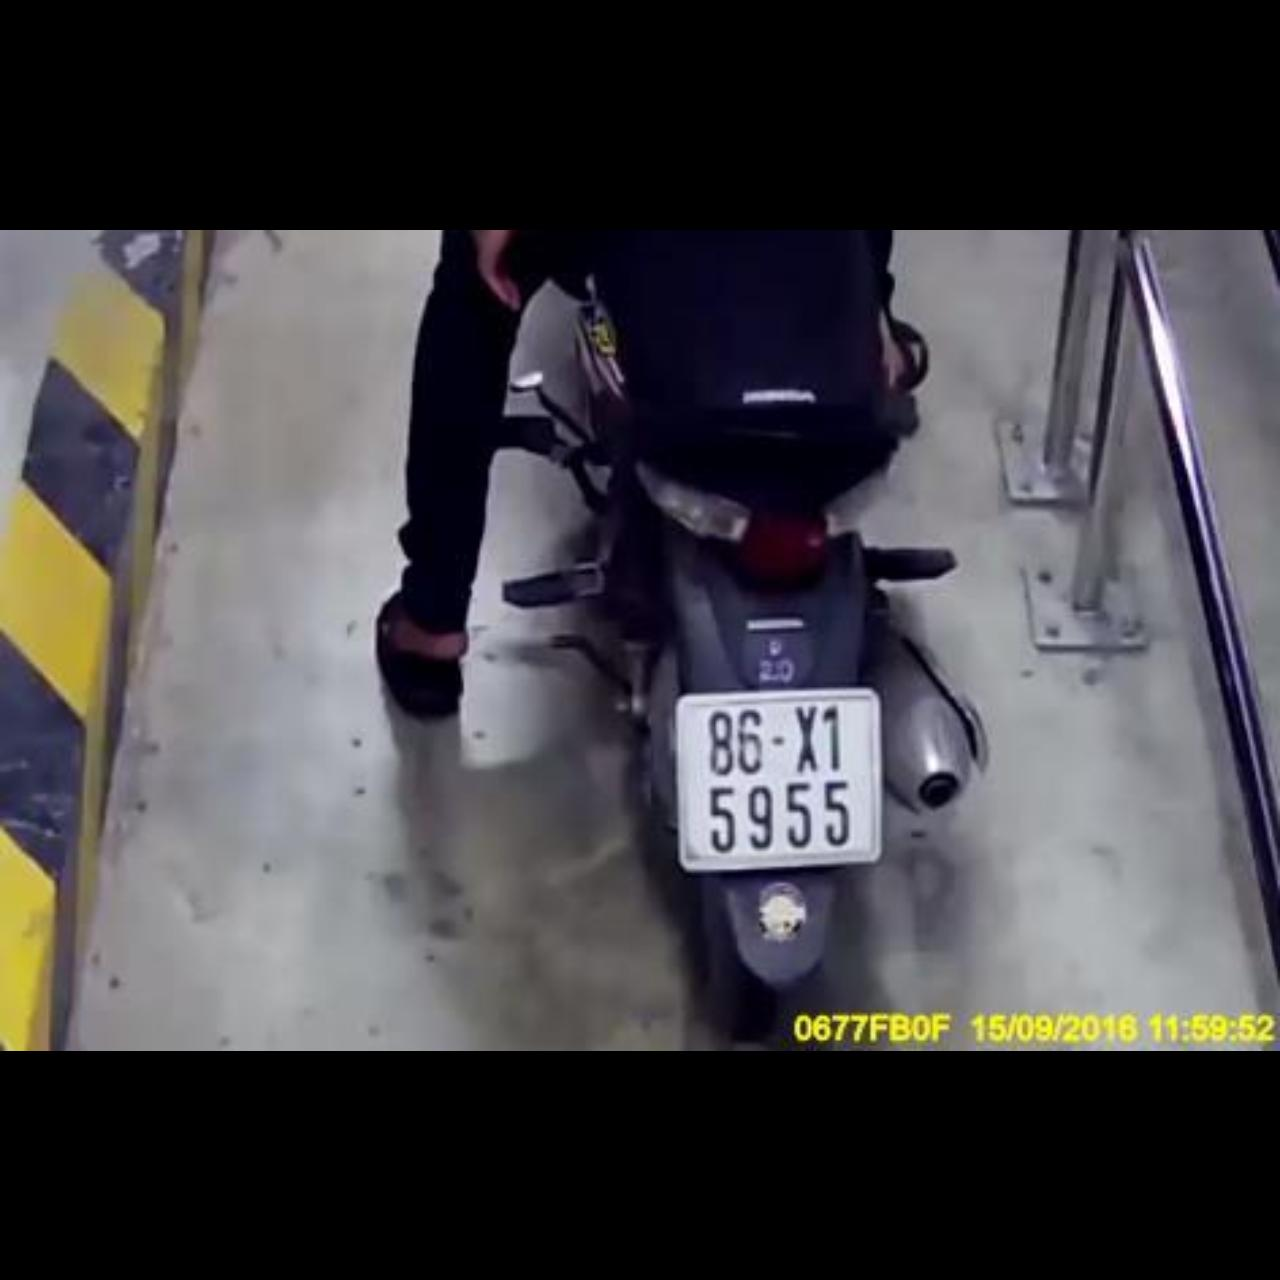bienso: (673, 686, 887, 874)
